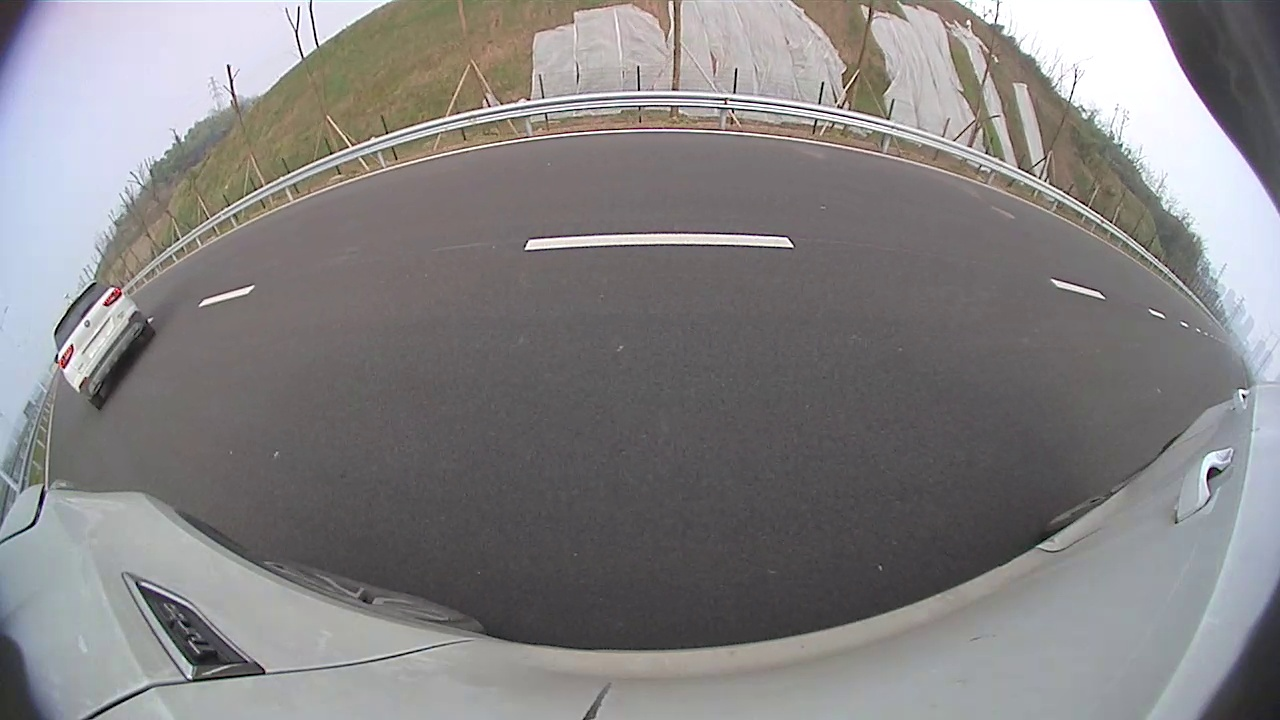car: (53, 279, 156, 411)
